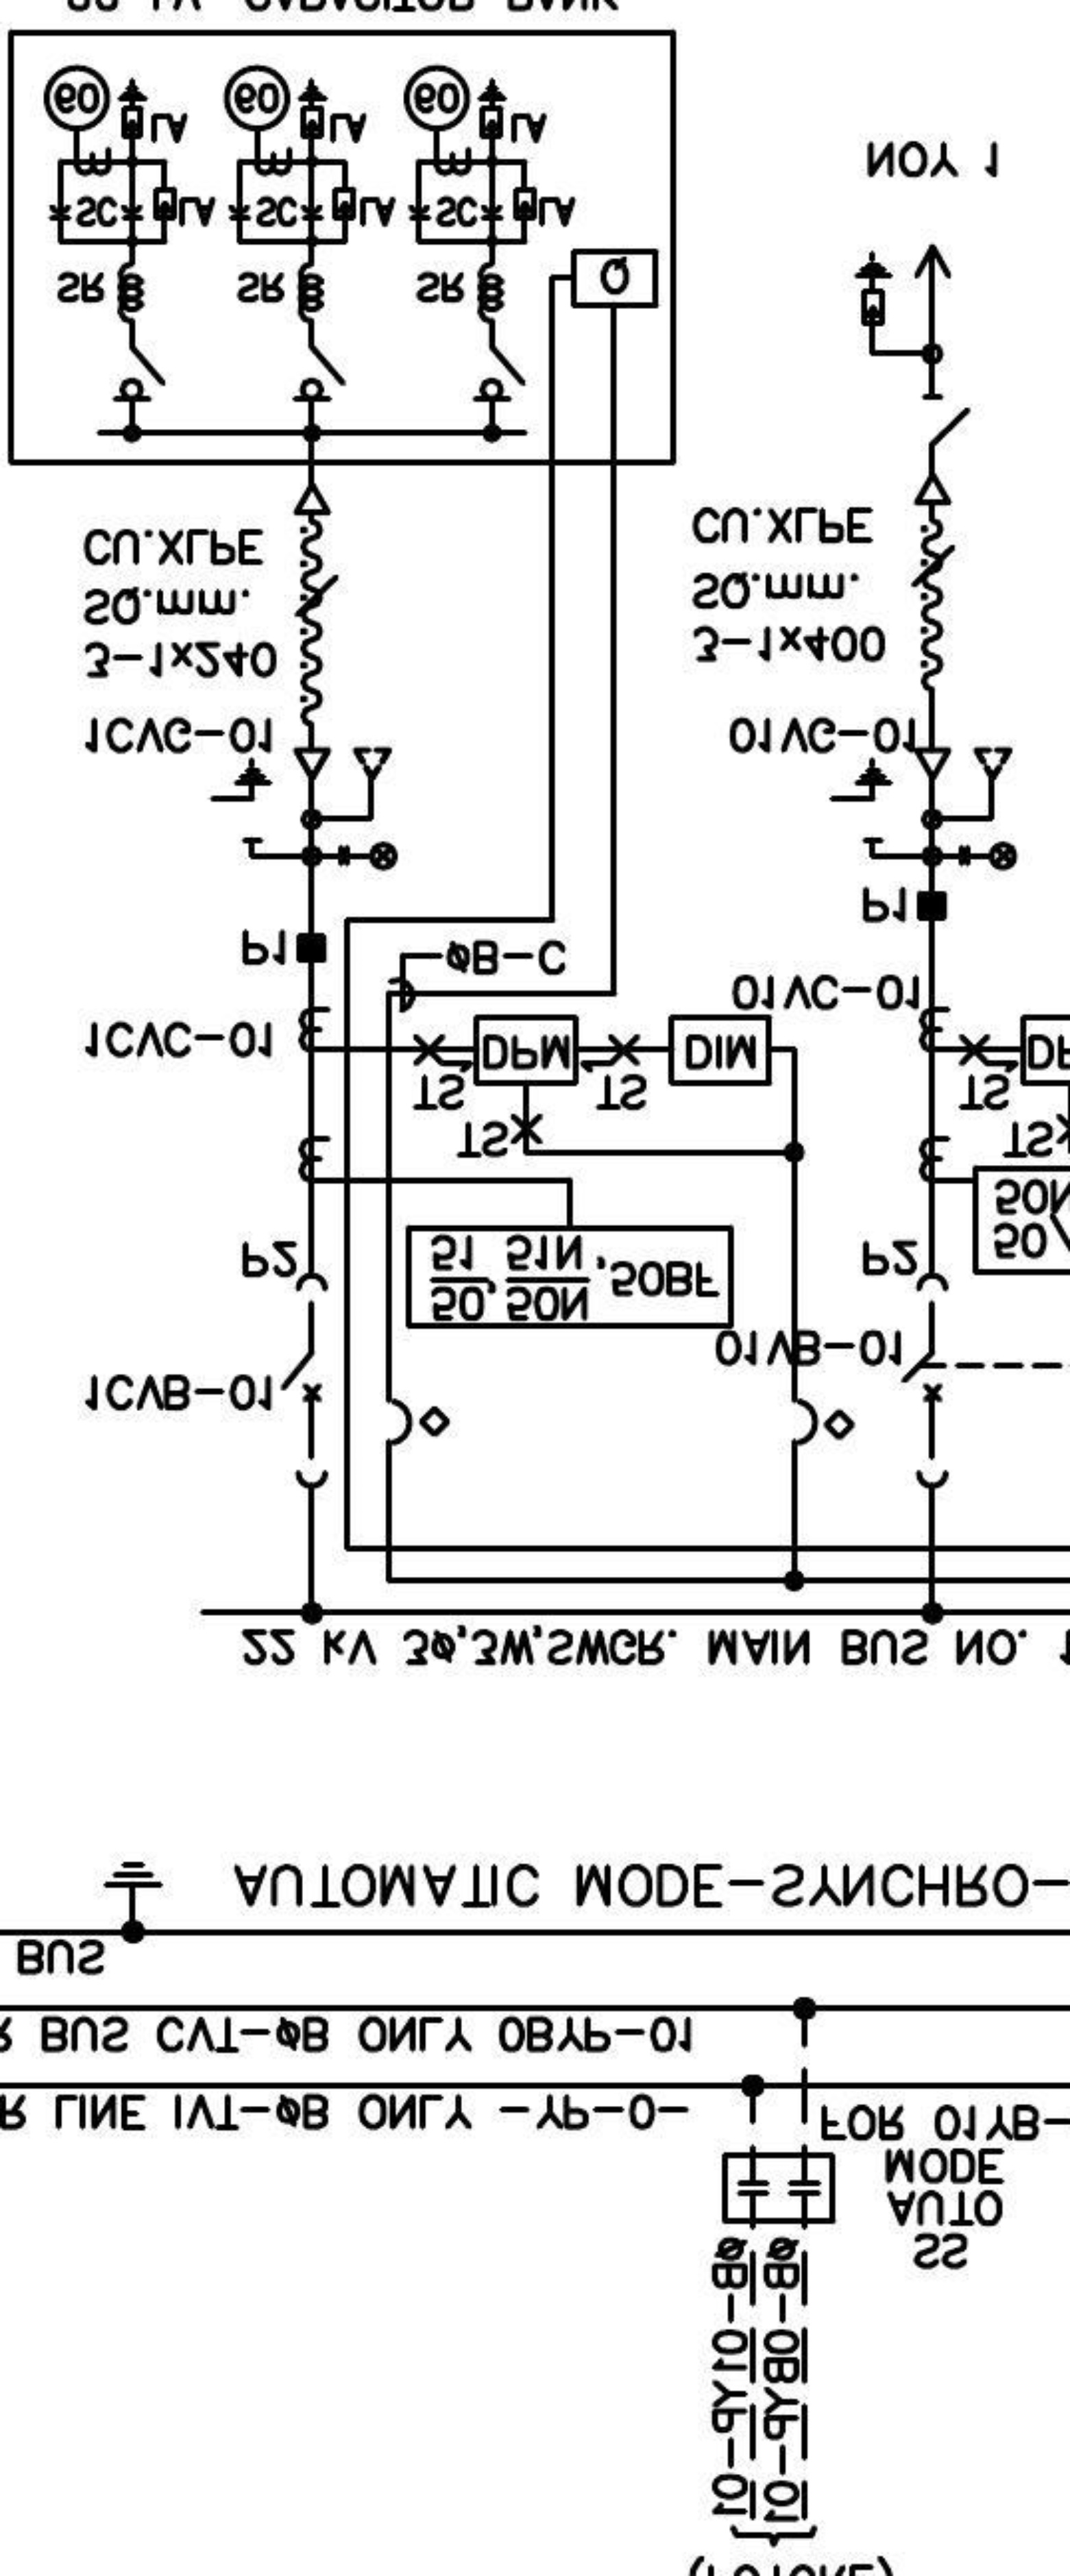22_breaker: (899, 1270, 950, 1490), (279, 1272, 330, 1490)
22_cap_bank: (7, 28, 679, 468)
22_ds_la_out: (853, 242, 971, 445)
22_gs: (207, 756, 274, 844), (827, 756, 894, 844)
22_ll: (957, 840, 1021, 872), (337, 840, 399, 872)
DIM: (666, 1012, 774, 1088)
DPM: (472, 1012, 580, 1088)
Q: (569, 246, 661, 309)
terminator_single: (912, 472, 953, 508), (293, 481, 334, 517)
terminator_w_future: (291, 746, 394, 823), (911, 746, 1014, 823)
